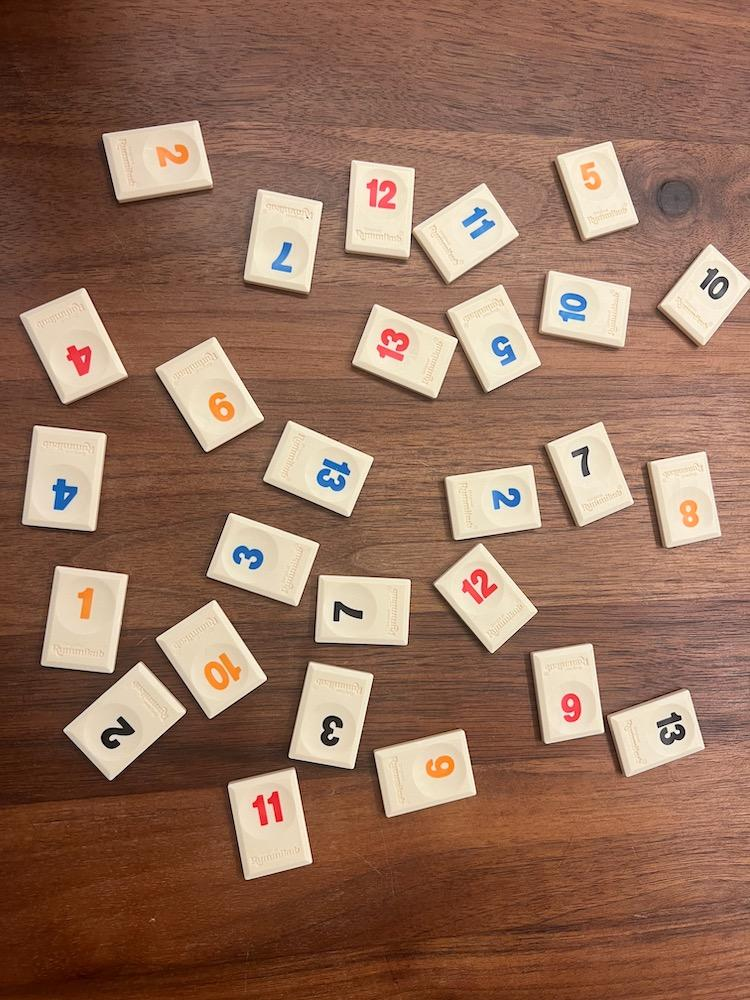black_10: (658, 244, 750, 346)
black_13: (608, 689, 705, 777)
black_2: (64, 662, 186, 779)
black_3: (289, 662, 373, 770)
black_7: (547, 422, 633, 525), (316, 576, 410, 644)
blue_10: (539, 271, 630, 348)
blue_11: (414, 184, 518, 283)
blue_13: (265, 422, 373, 516)
blue_2: (446, 465, 541, 539)
blue_3: (207, 514, 318, 605)
blue_4: (23, 426, 105, 531)
blue_5: (447, 285, 539, 391)
blue_7: (244, 189, 322, 293)
orange_1: (41, 566, 129, 674)
orange_10: (156, 600, 266, 717)
orange_2: (102, 121, 213, 203)
orange_5: (555, 143, 639, 240)
orange_8: (648, 453, 720, 547)
orange_9: (157, 338, 264, 451), (376, 730, 477, 818)
red_11: (229, 769, 312, 881)
red_12: (434, 545, 537, 652), (346, 160, 414, 260)
red_13: (352, 305, 457, 398)
red_4: (20, 289, 127, 404)
red_6: (532, 645, 604, 744)
